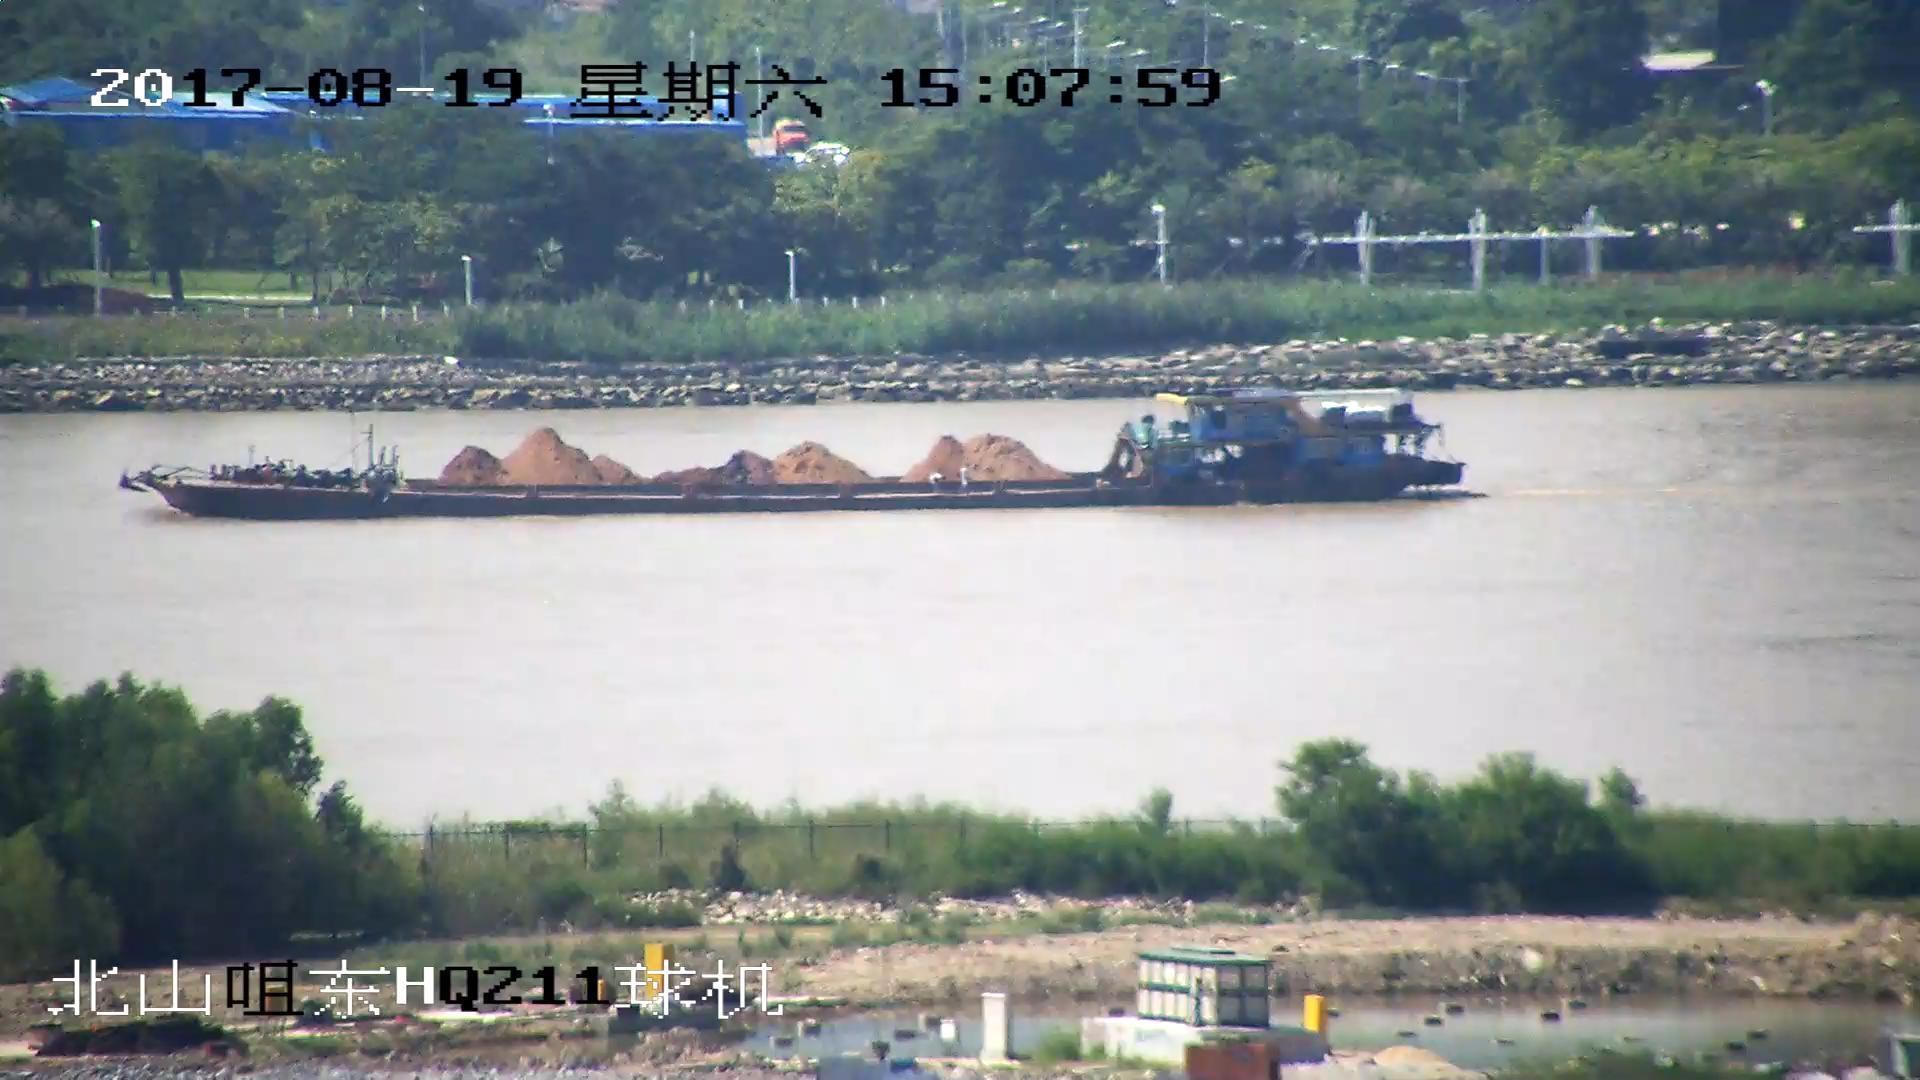Ship: (117, 386, 1468, 516)
